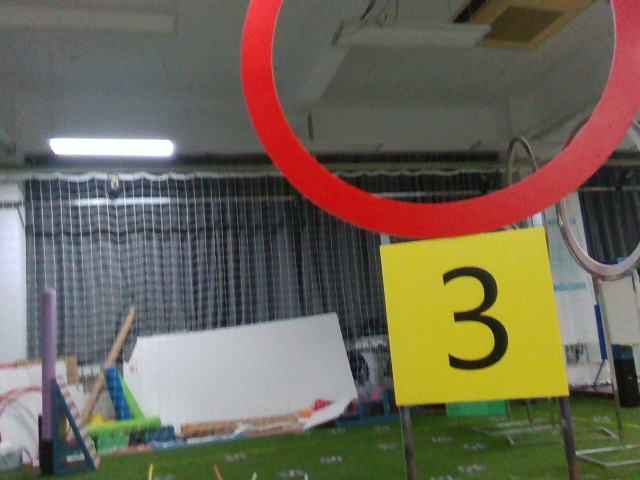target: (391, 242, 549, 392)
